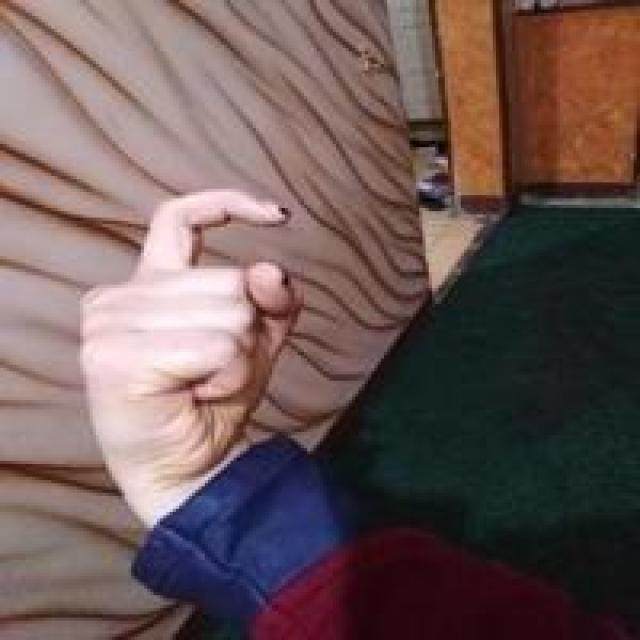X: (67, 187, 304, 520)
